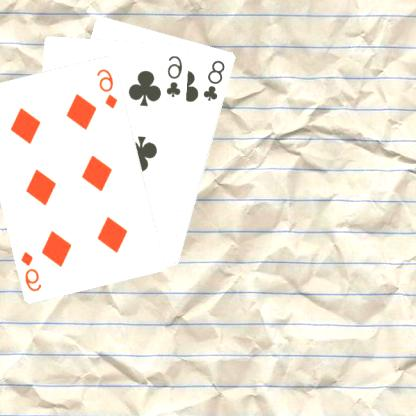6C: (165, 52, 186, 98)
6D: (96, 65, 121, 110), (20, 248, 45, 292)
8C: (202, 57, 228, 102)
